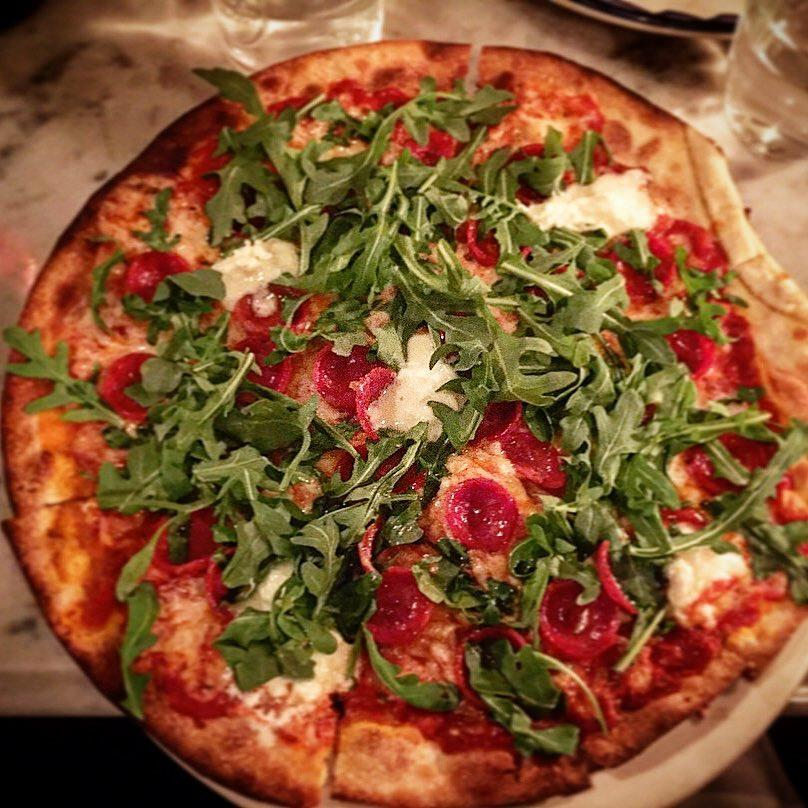Arugula: (562, 397, 683, 545), (326, 187, 443, 311), (466, 279, 611, 376), (147, 396, 286, 494), (259, 517, 346, 655), (714, 423, 792, 559), (319, 450, 429, 540), (235, 132, 364, 192), (202, 190, 317, 241)
Cheese: (535, 176, 652, 236), (396, 338, 451, 425), (202, 238, 291, 288), (672, 552, 744, 611)
Pepperoni: (539, 577, 624, 666), (317, 341, 392, 437), (682, 433, 775, 495), (445, 480, 521, 551), (458, 630, 525, 706), (100, 352, 174, 419), (366, 564, 428, 641), (153, 509, 233, 568), (608, 233, 672, 302), (125, 251, 195, 314), (237, 284, 307, 336), (460, 385, 523, 442), (651, 326, 711, 382), (514, 139, 574, 193), (389, 114, 457, 161), (506, 430, 560, 488), (654, 214, 711, 265), (461, 205, 507, 265), (350, 366, 391, 428), (205, 567, 244, 624), (722, 308, 757, 371), (660, 512, 707, 536)
Pizza: (0, 50, 808, 789)
